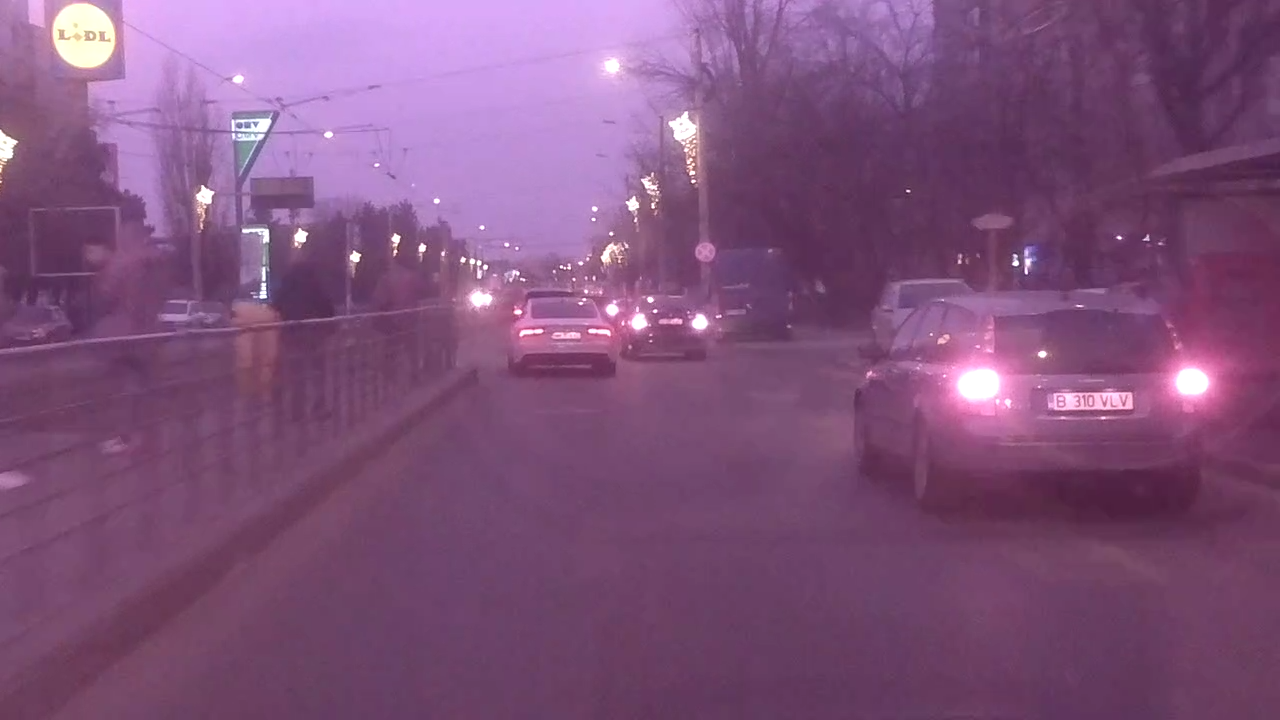license-plate: (1042, 386, 1138, 416)
